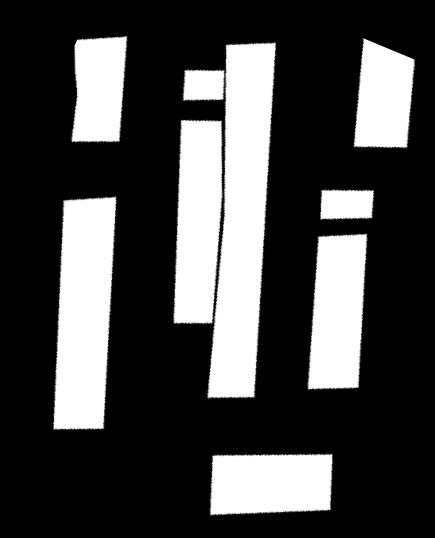parkingspot: (183, 43, 276, 398), (53, 197, 116, 430), (173, 120, 222, 324), (308, 234, 367, 390), (210, 454, 333, 515), (354, 39, 415, 148), (72, 36, 127, 142), (320, 190, 374, 219)
